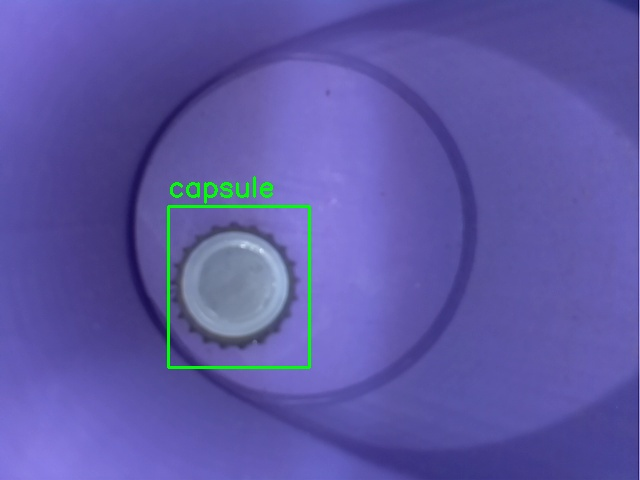capsule: (168, 206, 309, 367)
